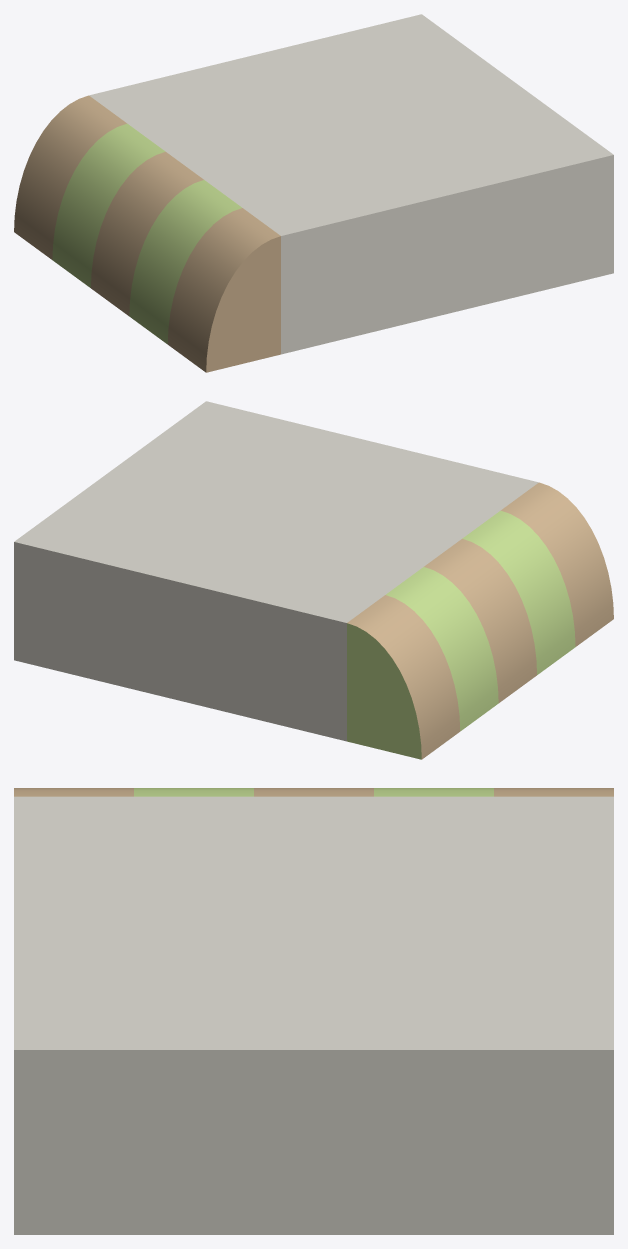
File: Building Roof 10.fbx
3 renders of one model, top to bottom at view 1: azimuth 30°, elevation 25°; view 2: azimuth 150°, elevation 25°; view 3: azimuth 270°, elevation 25°, orthographic. The views are drawn at different scales.
Visible parts, largest first — view 1: Building Roof 10; view 2: Building Roof 10; view 3: Building Roof 10.
Part boxes in pixels (left/top/right/bottom): Building Roof 10: left=14, top=14, right=613, bottom=372; Building Roof 10: left=14, top=401, right=613, bottom=759; Building Roof 10: left=14, top=788, right=613, bottom=1234.
Bounding box in the file's own units: 1.22 × 0.34 × 1.
